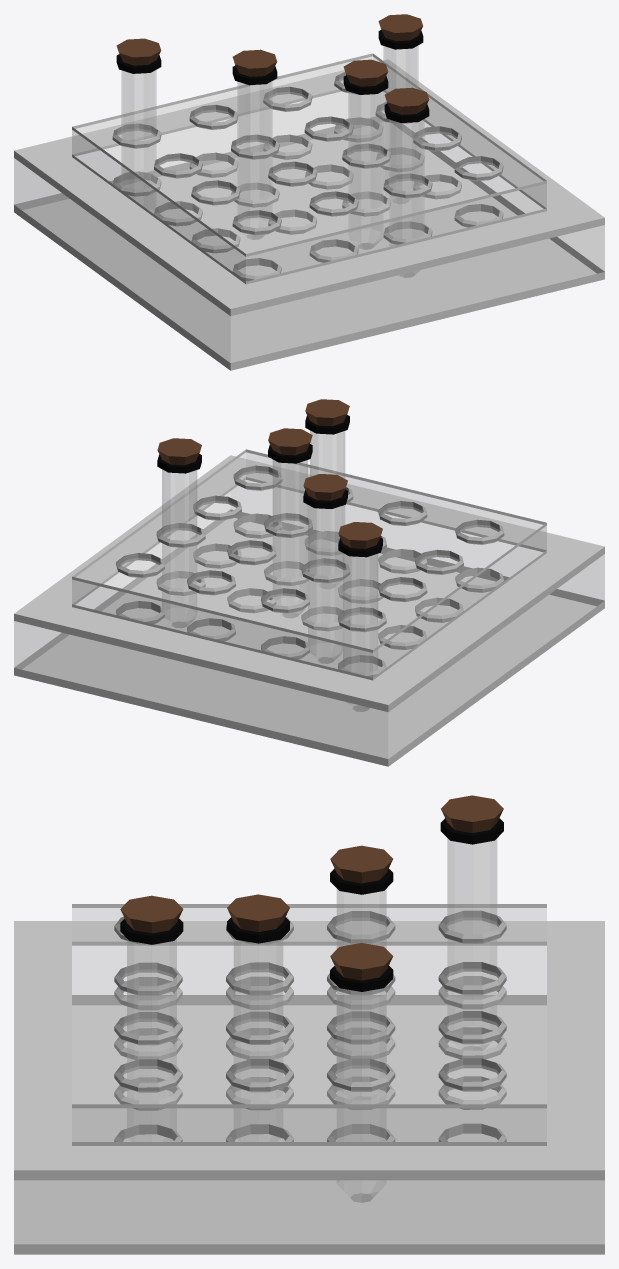
Rendered from Bandeja_01.fbx.
3 renders of one model, top to bottom at view 1: azimuth 30°, elevation 25°; view 2: azimuth 150°, elevation 25°; view 3: azimuth 270°, elevation 25°, orthographic. The views are drawn at different scales.
Visible parts, largest first — view 1: polySurface76; view 2: polySurface76; view 3: polySurface76.
Boxes of the visible parts, x1=… form: polySurface76: x1=14, y1=14, x2=604, y2=370; polySurface76: x1=14, y1=399, x2=604, y2=766; polySurface76: x1=14, y1=795, x2=604, y2=1254.
Bounding box in the file's own units: 1.1 × 0.5109 × 1.11.
